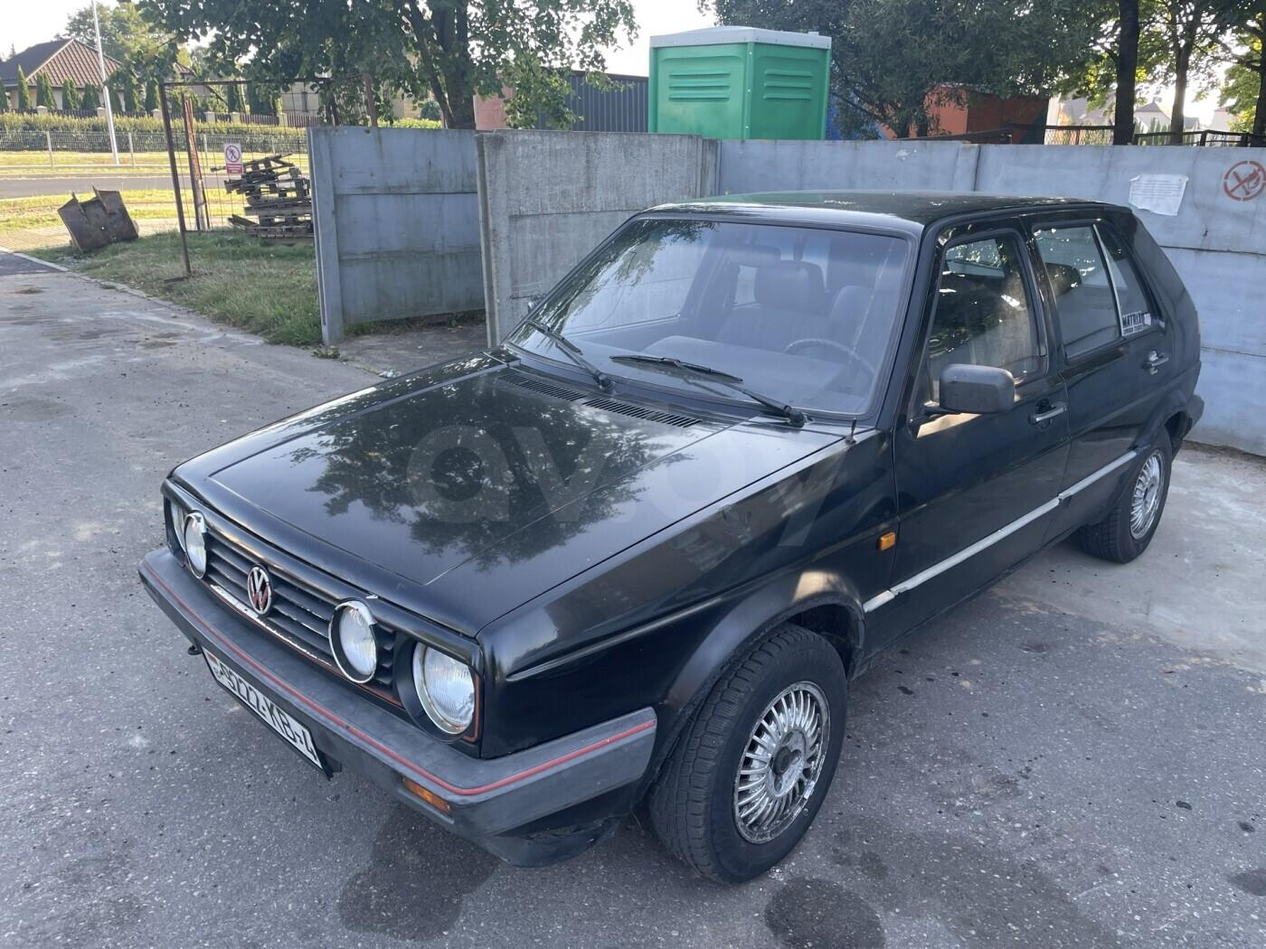Golf_1983-1992: (136, 183, 1207, 886)
